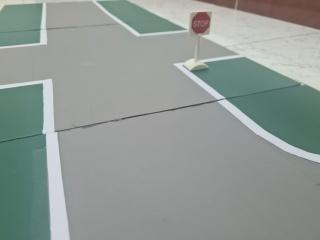stop: (188, 10, 216, 40)
